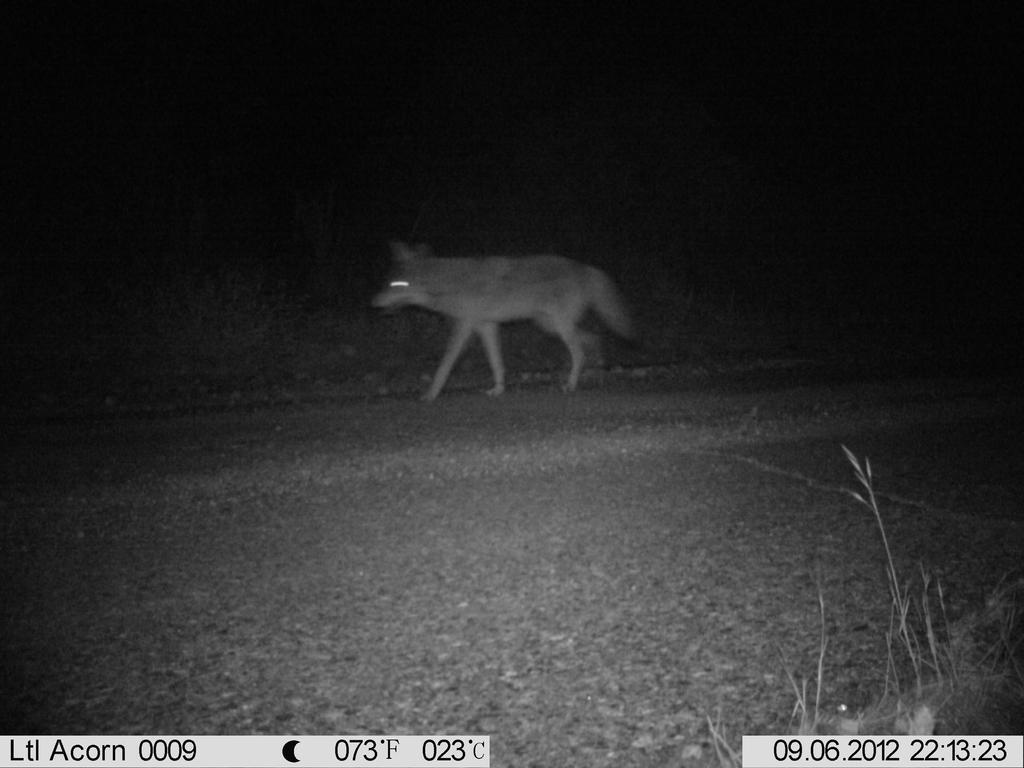coyote: (375, 229, 656, 407)
